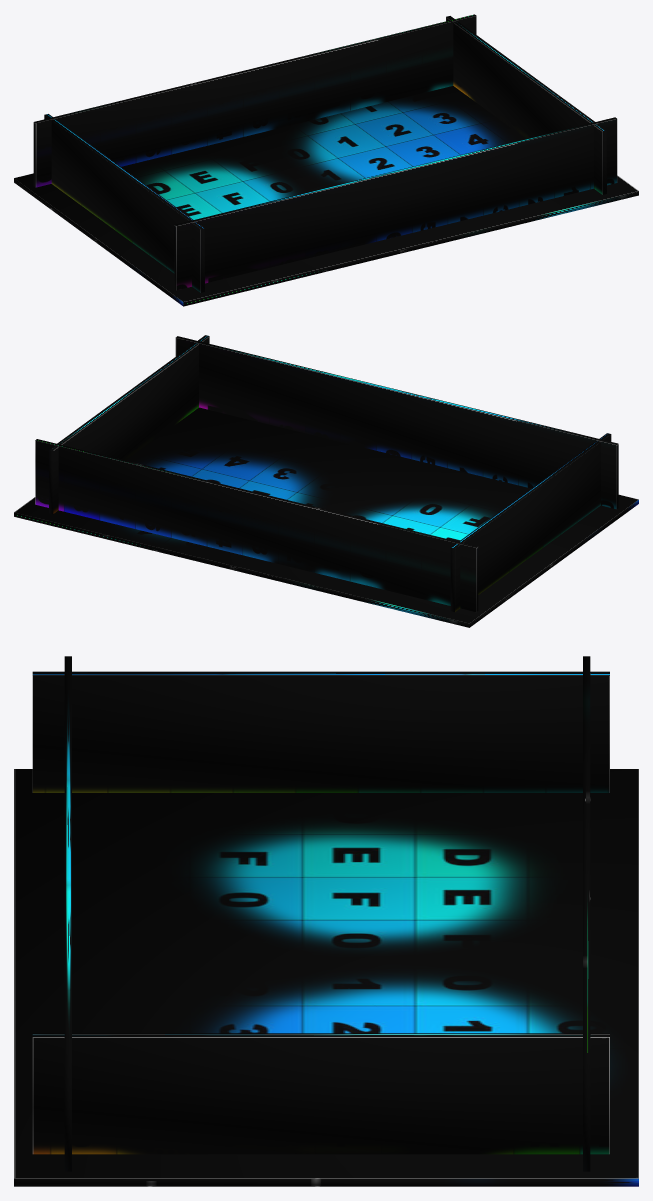
Rendered from main_bottom.obj.
3 views of the same model, one above another, from view 1: azimuth 30°, elevation 25°; view 2: azimuth 150°, elevation 25°; view 3: azimuth 270°, elevation 25° (orthographic). The views are drawn at different scales.
Parts seen in each view (by area): view 1: floor, east_wall, west_wall, south_wall, north_wall; view 2: floor, west_wall, east_wall, south_wall, north_wall; view 3: floor, north_wall, south_wall, east_wall, west_wall.
Boxes of the visible parts, x1=… form: floor: x1=14, y1=86, x2=638, y2=306; east_wall: x1=174, y1=117, x2=617, y2=290; west_wall: x1=33, y1=14, x2=476, y2=187; south_wall: x1=44, y1=114, x2=204, y2=292; north_wall: x1=446, y1=16, x2=606, y2=194; floor: x1=14, y1=407, x2=638, y2=627; west_wall: x1=35, y1=439, x2=478, y2=611; east_wall: x1=175, y1=336, x2=618, y2=509; south_wall: x1=450, y1=433, x2=611, y2=612; north_wall: x1=49, y1=335, x2=209, y2=513; floor: x1=14, y1=769, x2=638, y2=1186; north_wall: x1=32, y1=1033, x2=609, y2=1154; south_wall: x1=32, y1=671, x2=609, y2=792; east_wall: x1=64, y1=656, x2=71, y2=1171; west_wall: x1=583, y1=656, x2=590, y2=1171.
Size of the model in its own units: 54.16 by 7.8 by 34.9.
Materials: 1 (1 with a texture image).
